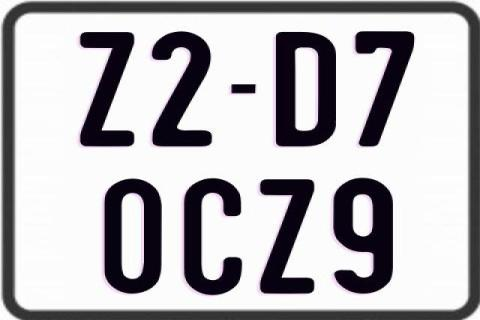0: (330, 176, 393, 296), (104, 176, 166, 295), (355, 29, 417, 145), (149, 29, 210, 145)
C: (184, 178, 245, 298)
D: (274, 32, 335, 150)
Z: (80, 31, 139, 149), (257, 180, 316, 296)
